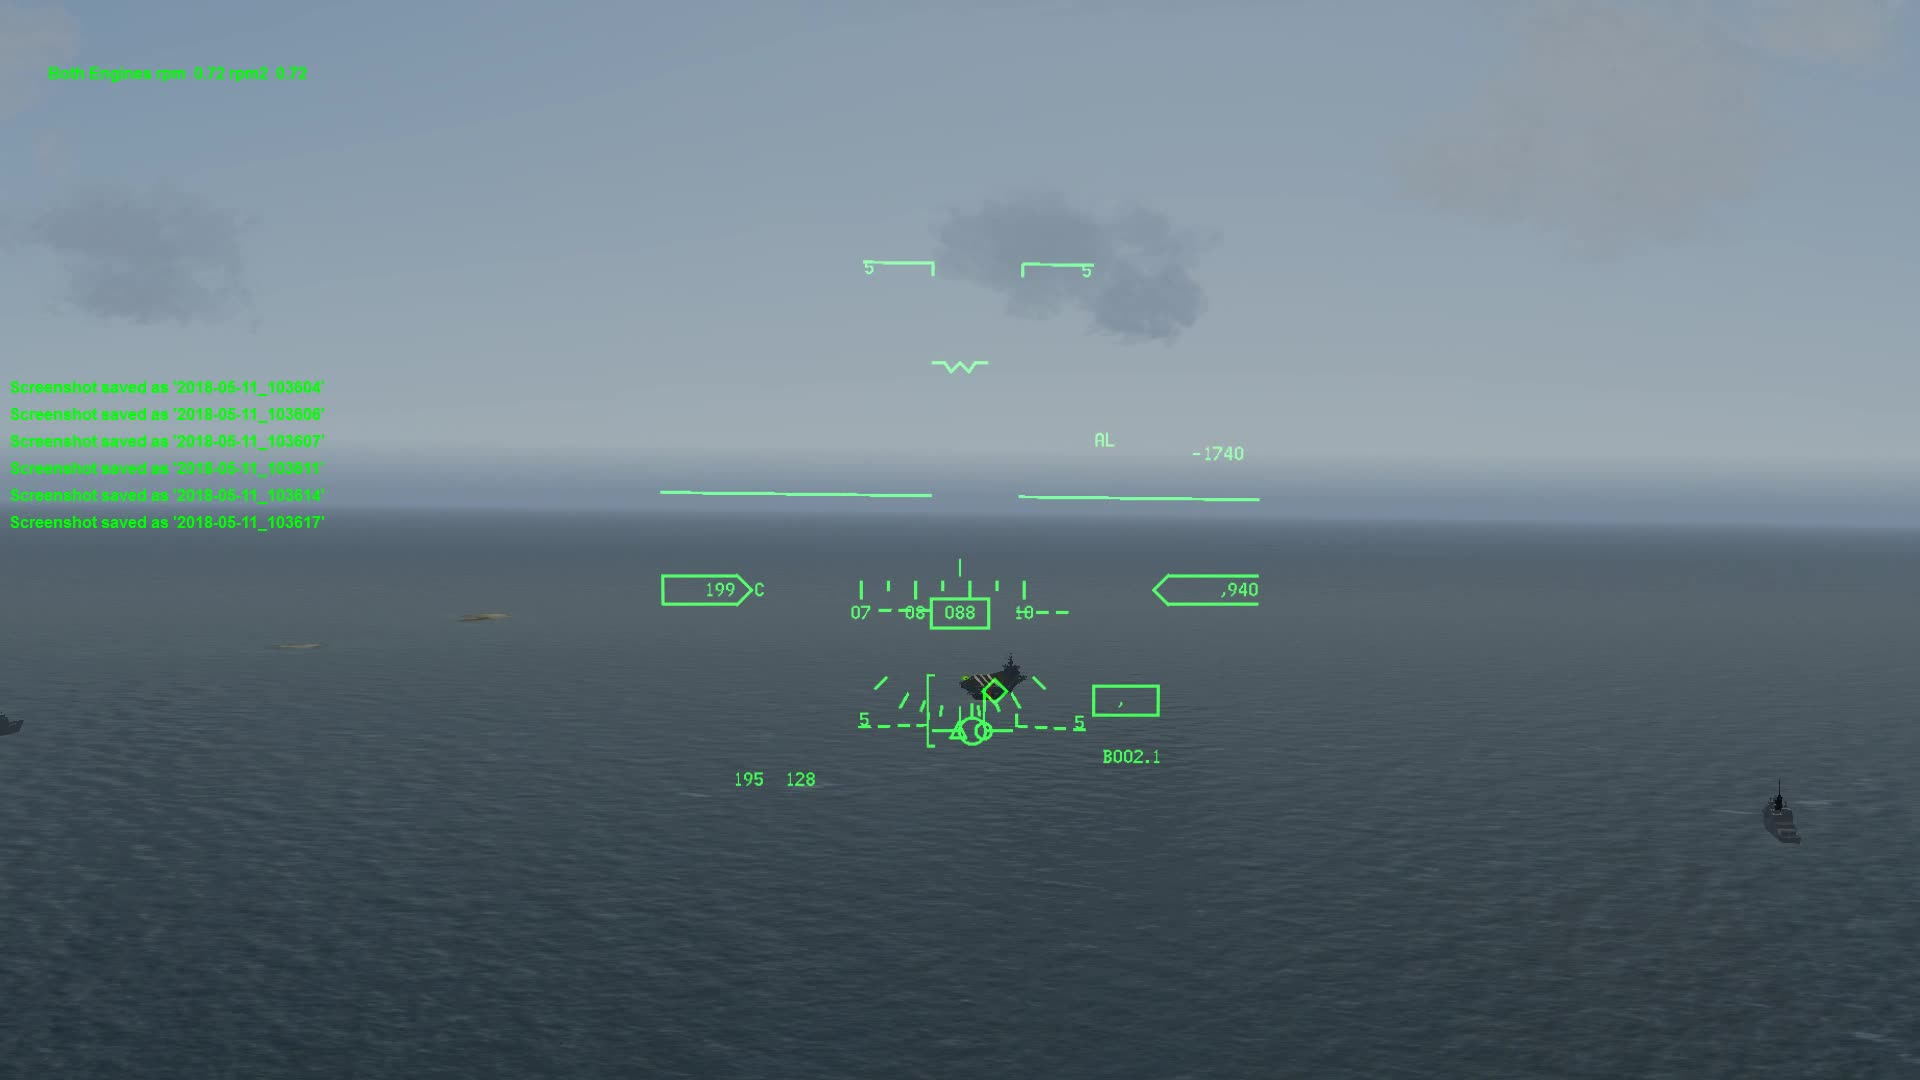speed vector: (938, 708, 1022, 754)
